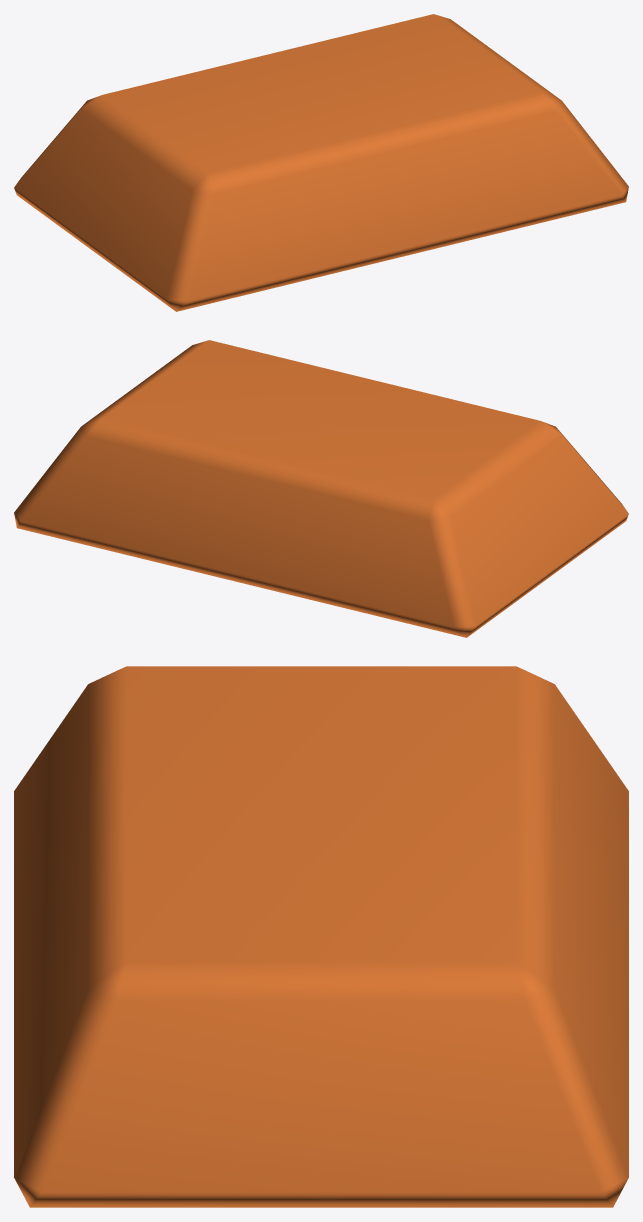
Rendered from CopperIngot.fbx.
3 renders of one model, top to bottom at view 1: azimuth 30°, elevation 25°; view 2: azimuth 150°, elevation 25°; view 3: azimuth 270°, elevation 25°, orthographic. The views are drawn at different scales.
Parts seen in each view (by area): view 1: CopperIngot_Body; view 2: CopperIngot_Body; view 3: CopperIngot_Body.
Part boxes in pixels (x1,y1,x2,y2): CopperIngot_Body: (14, 14, 628, 311); CopperIngot_Body: (14, 340, 628, 637); CopperIngot_Body: (14, 666, 628, 1207).
Size of the model in its own units: 1.01 by 0.22 by 0.6368.
